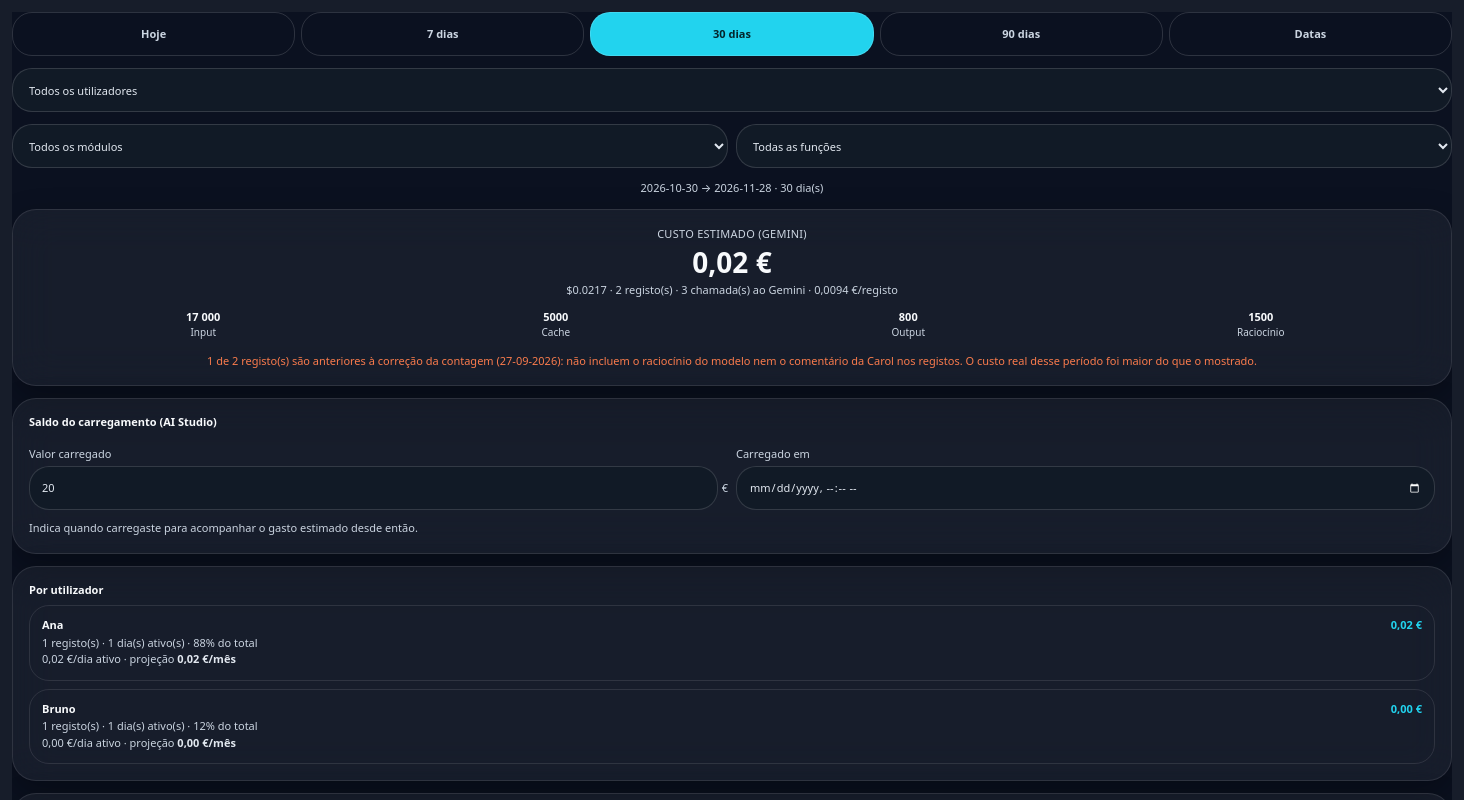
CostsTab › filtrar por utilizador não volta a pedir ao servidor
The image size is (1464, 800).
Expected: the text "Por utilizador" is shown, x1=29 y1=582 x2=103 y2=596
Select "Ana" in the dropdown named "Utilizador" at (732, 90), box x1=12 y1=68 x2=1452 y2=112
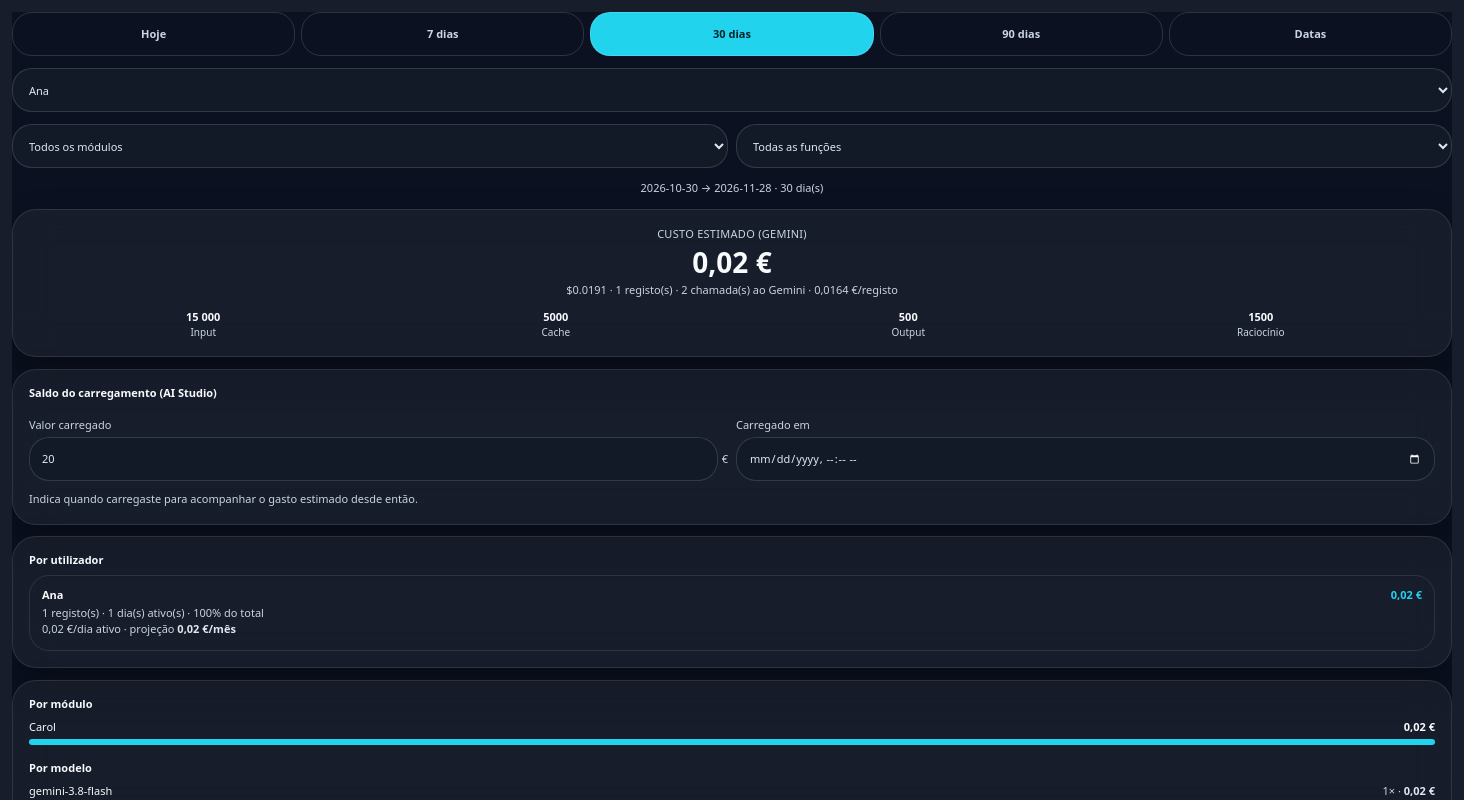
Result: the button "Bruno" is gone
